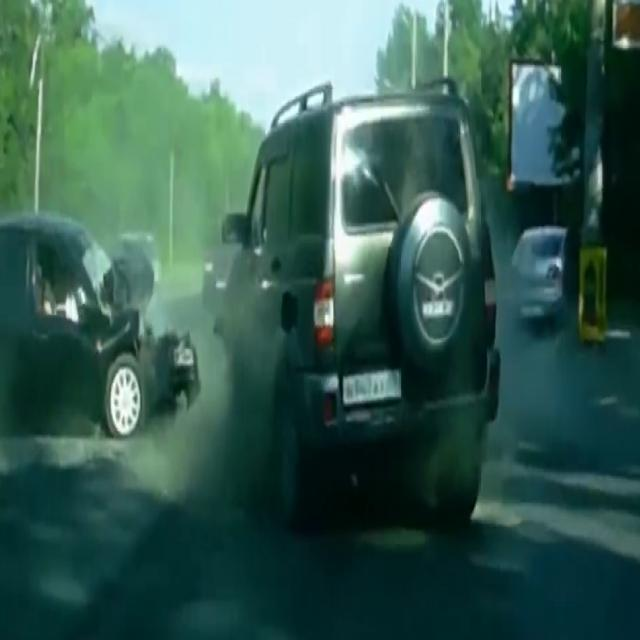accident: (7, 204, 208, 452)
